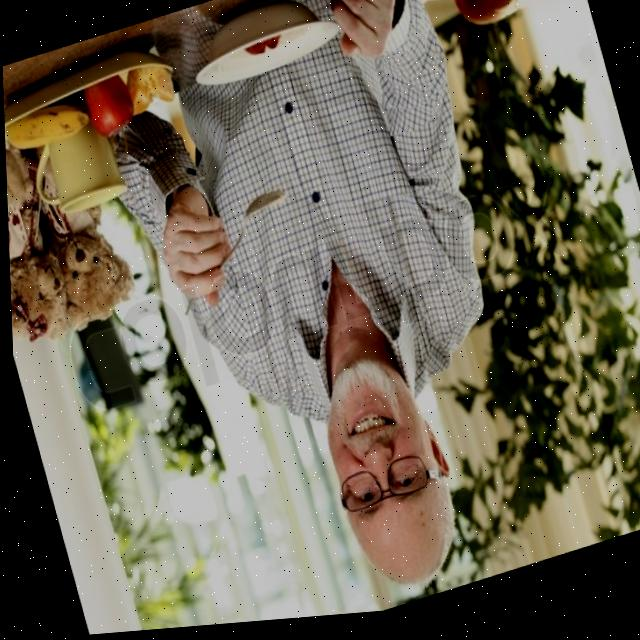eating-person: (77, 0, 575, 635)
